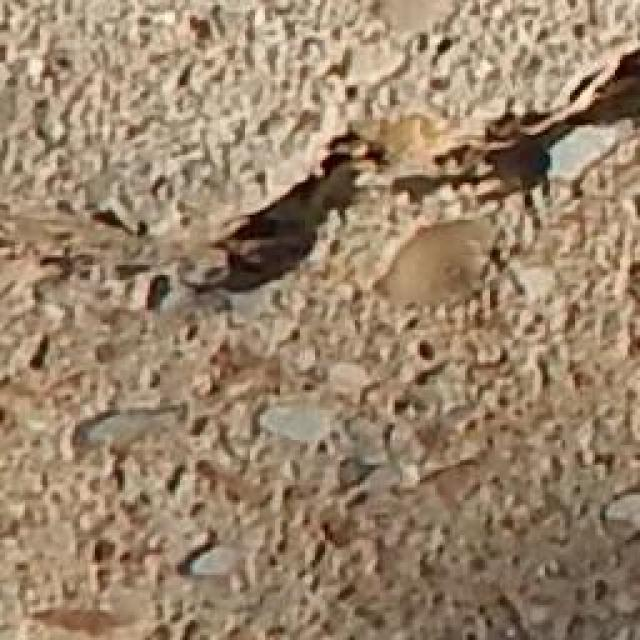concrete-crack: (166, 35, 639, 300)
